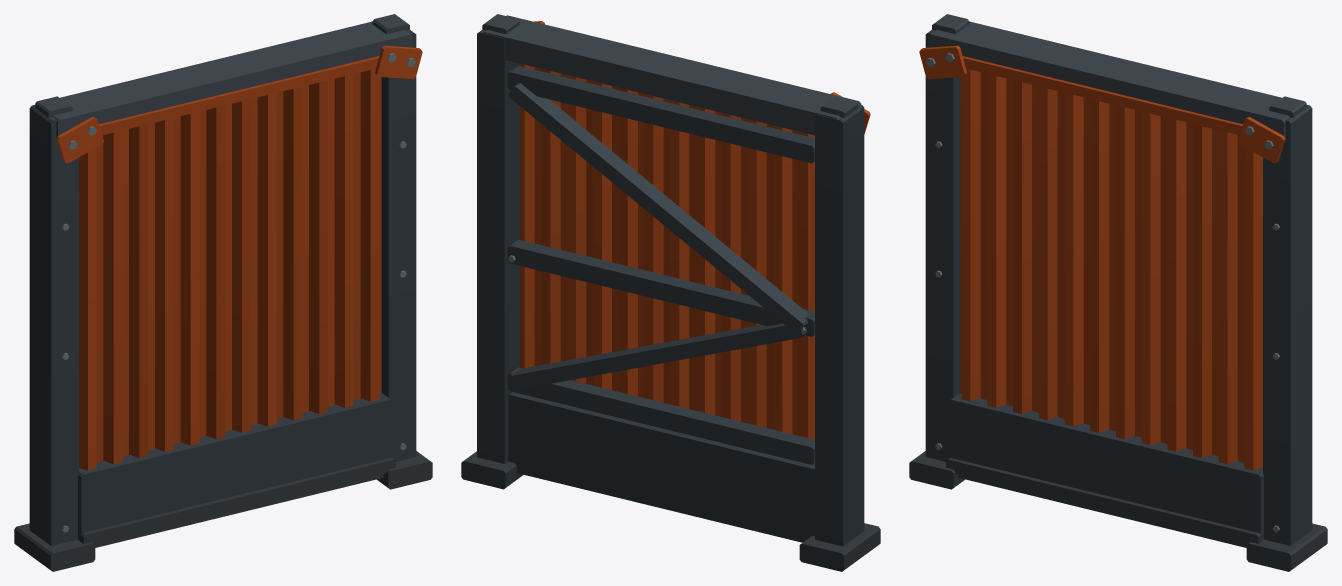
File: wsc-module-020-corrugated-wall-distance.glb
The picture shows the model from 3 angles, left to right: view 1: azimuth 30°, elevation 25°; view 2: azimuth 150°, elevation 25°; view 3: azimuth 330°, elevation 25°; orthographic projection.
Visible parts, largest first — view 1: WSC-MODULE-020 | Distance; view 2: WSC-MODULE-020 | Distance; view 3: WSC-MODULE-020 | Distance.
Part boxes in pixels (x1,y1,x2,y2): WSC-MODULE-020 | Distance: [14, 14, 432, 571]; WSC-MODULE-020 | Distance: [461, 14, 880, 571]; WSC-MODULE-020 | Distance: [909, 14, 1327, 571].
Size of the model in its own units: 2.38 by 2.67 by 0.4045.
